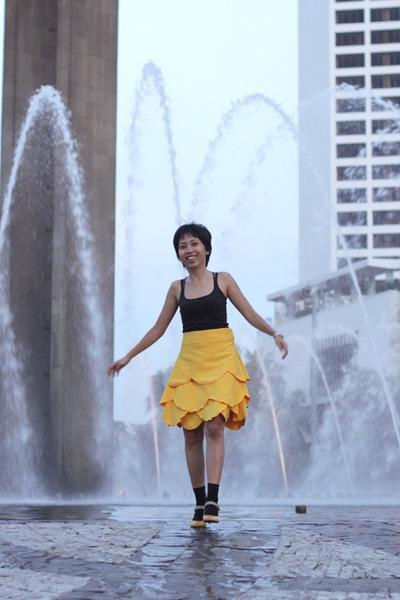shirt: (180, 276, 228, 332)
skirt: (160, 328, 249, 429)
